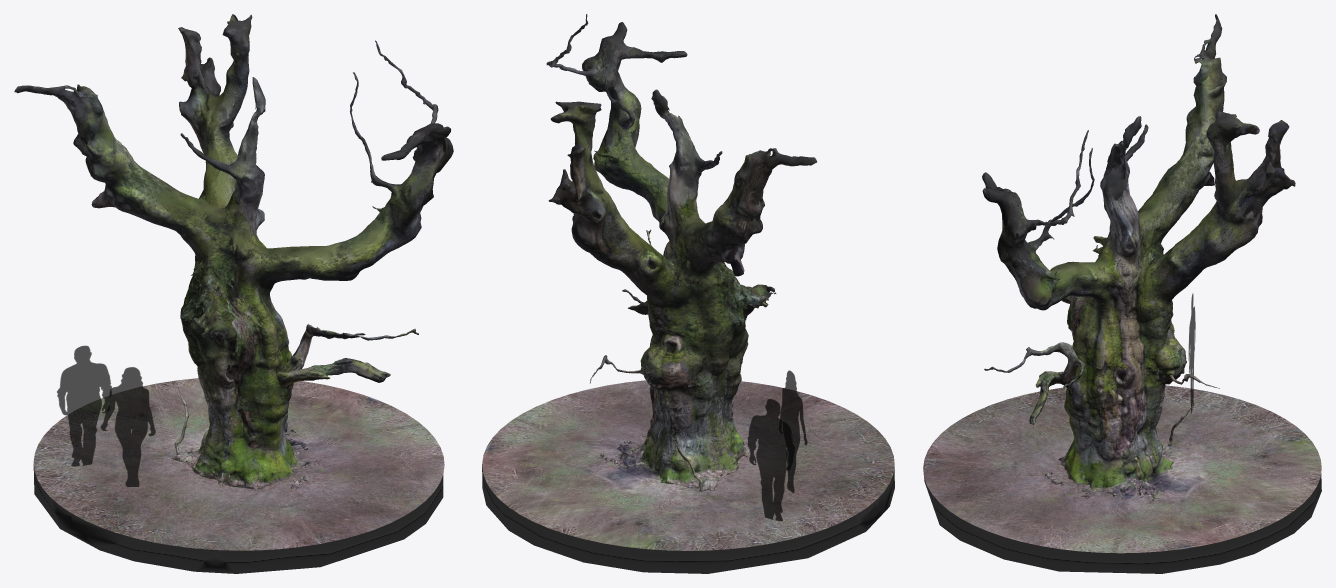
Rendered from deadoak.glb.
The picture shows the model from 3 angles, left to right: view 1: azimuth 30°, elevation 25°; view 2: azimuth 150°, elevation 25°; view 3: azimuth 270°, elevation 25°; orthographic projection. The views are drawn at different scales.
Parts seen in each view (by area): view 1: Object_5, Object_8, Object_2, Object_3, Object_14, Object_13; view 2: Object_5, Object_8, Object_3, Object_2, Object_14, Object_13; view 3: Object_5, Object_8, Object_3, Object_2, Object_14.
Boxes of the visible parts, box(x1,y1,x2,y2) form: Object_5: box(14, 17, 444, 550); Object_8: box(14, 14, 450, 490); Object_2: box(33, 464, 443, 573); Object_3: box(15, 50, 453, 489); Object_14: box(57, 345, 111, 466); Object_13: box(100, 367, 155, 486); Object_5: box(482, 14, 894, 550); Object_8: box(546, 14, 816, 491); Object_3: box(553, 22, 796, 486); Object_2: box(482, 464, 894, 573); Object_14: box(747, 399, 795, 521); Object_13: box(779, 370, 807, 492); Object_5: box(923, 14, 1321, 553); Object_8: box(982, 15, 1295, 500); Object_3: box(983, 19, 1295, 497); Object_2: box(924, 473, 1321, 573); Object_14: box(1188, 293, 1195, 413).
Size of the model in its own units: 211 by 244 by 211.
6 materials, 5 textured.
